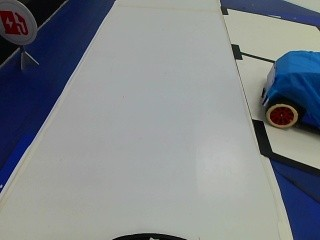battery: (0, 0, 38, 47)
car: (255, 49, 318, 129)
